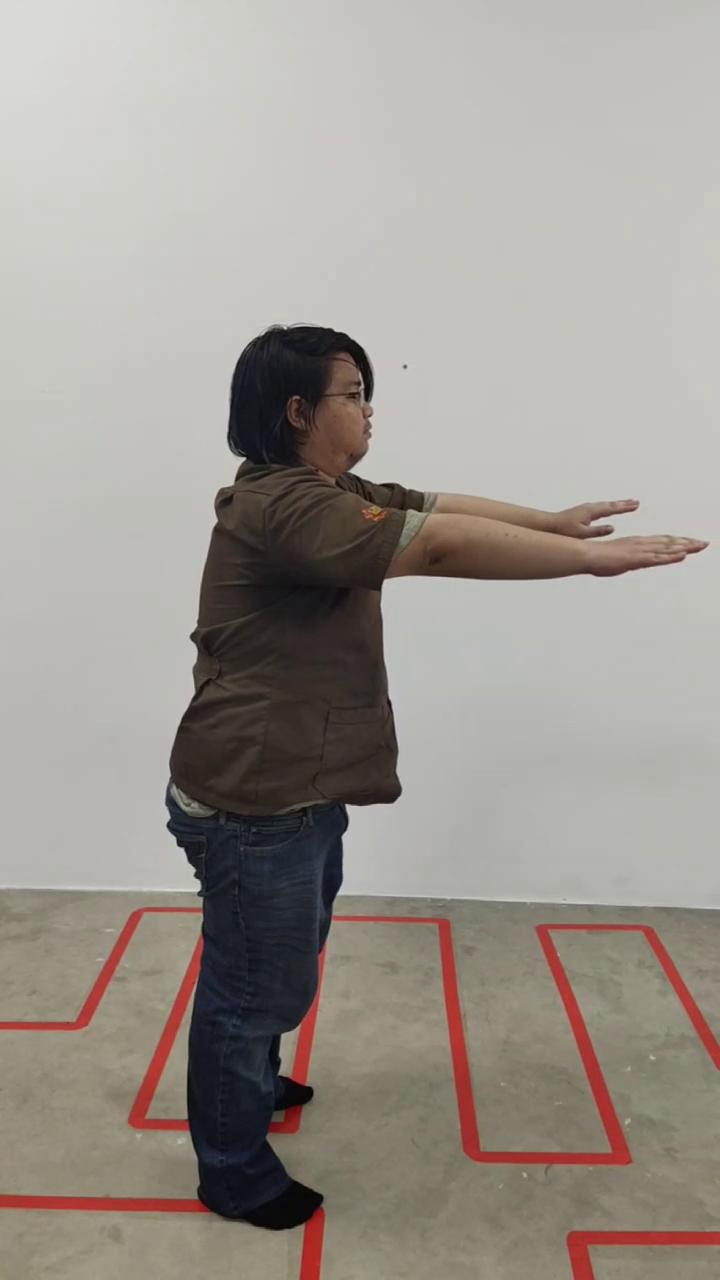squat up: (166, 324, 702, 1232)
